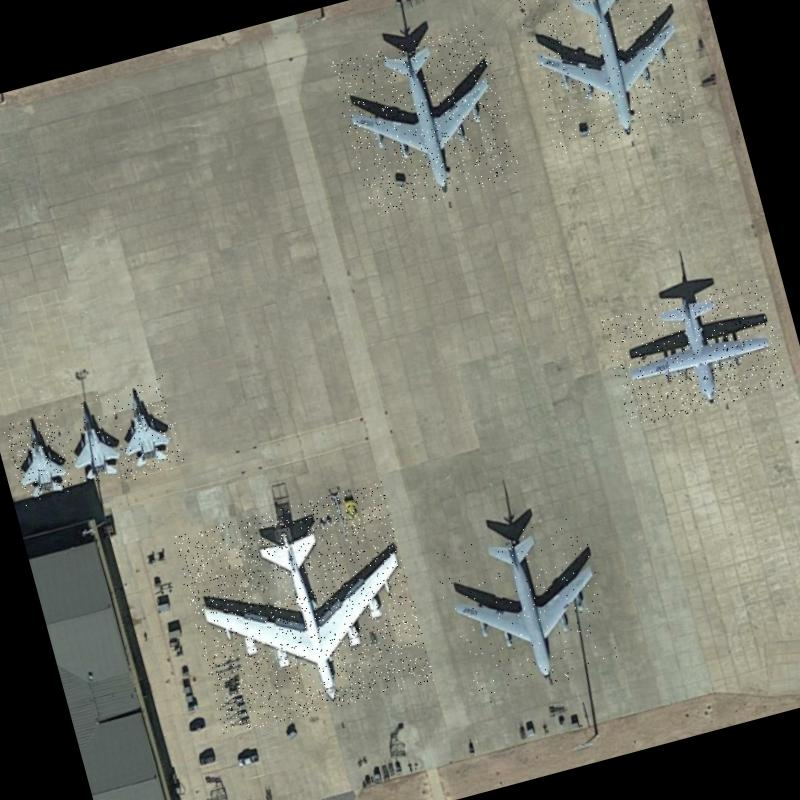A13: (103, 374, 186, 482), (56, 389, 134, 494), (2, 411, 76, 506)
A14: (328, 22, 522, 217), (430, 512, 621, 707), (514, 0, 703, 157)
A2: (600, 276, 791, 428)
A8: (170, 481, 434, 737)
